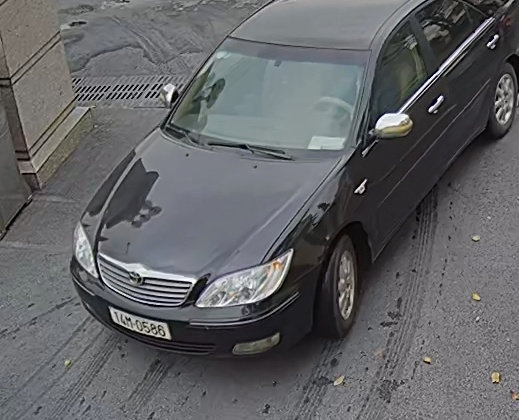vehicle plate: (107, 303, 173, 344)
